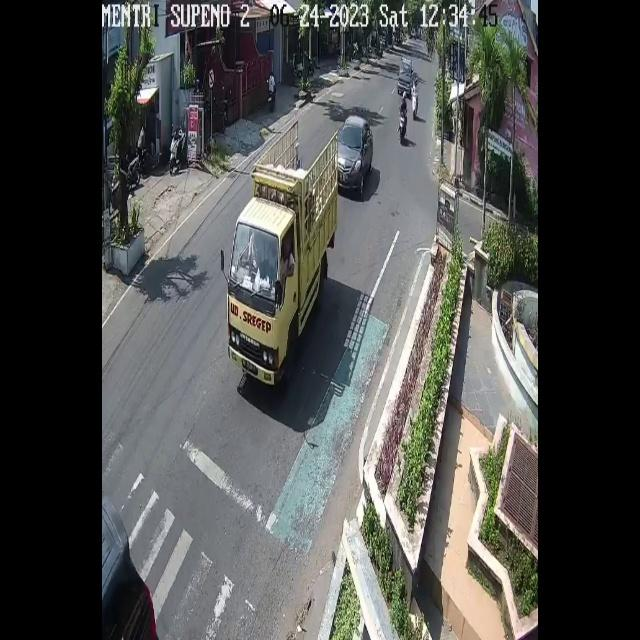bus: (398, 103, 408, 141), (409, 87, 419, 117)
motorcycle: (336, 115, 374, 196), (396, 56, 414, 100)
truck: (226, 119, 339, 389)
